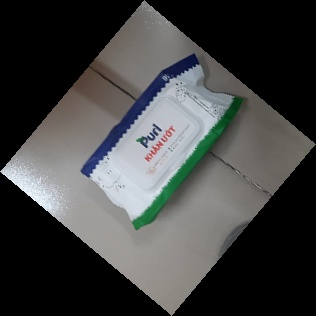Puri Trang: (79, 51, 247, 232)
